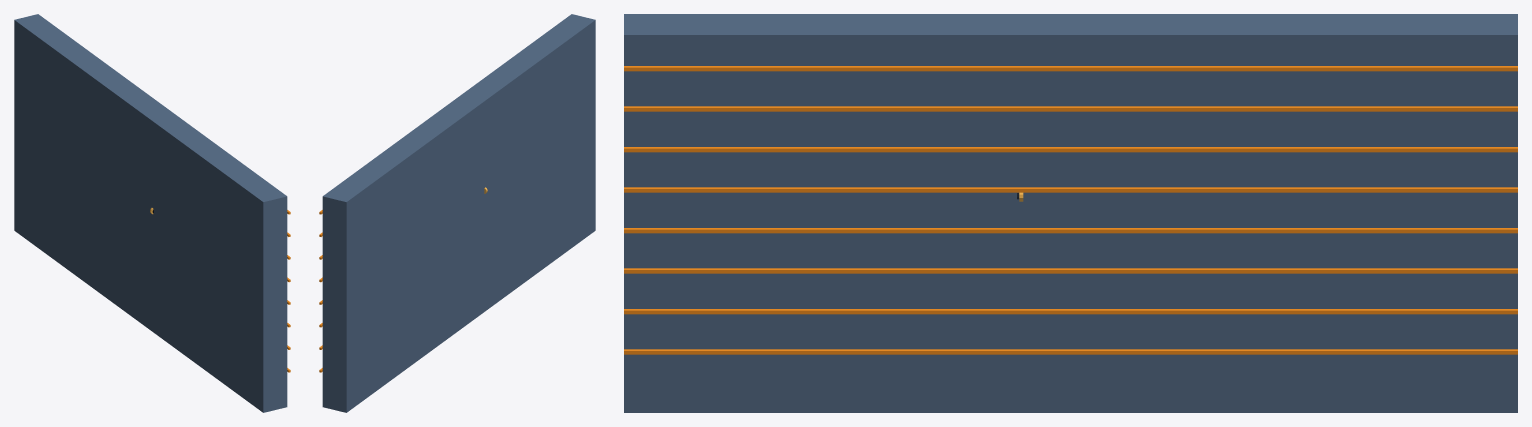
The model's file is 15_L91_DeepSpaceMissionSafetyBarrier.fbx.
The picture shows the model from 3 angles, left to right: view 1: azimuth 30°, elevation 25°; view 2: azimuth 150°, elevation 25°; view 3: azimuth 270°, elevation 25°; orthographic projection. The views are drawn at different scales.
Visible parts, largest first — view 1: L91_DeepSpaceMissionSafetyBarrier; view 2: L91_DeepSpaceMissionSafetyBarrier; view 3: L91_DeepSpaceMissionSafetyBarrier.
Part boxes in pixels (bbox=[...]): L91_DeepSpaceMissionSafetyBarrier: bbox=[14, 14, 290, 412]; L91_DeepSpaceMissionSafetyBarrier: bbox=[319, 14, 595, 412]; L91_DeepSpaceMissionSafetyBarrier: bbox=[624, 14, 1517, 412].
Size of the model in its own units: 61.5 by 420 by 900.
